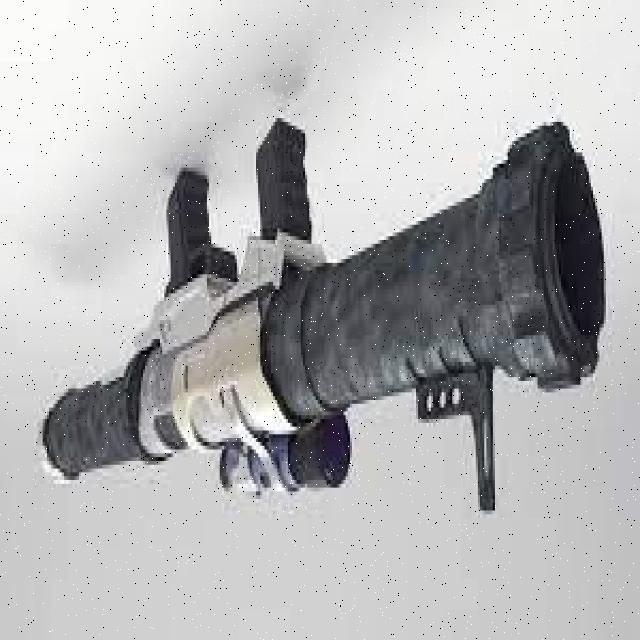bazooka: (35, 92, 611, 541)
